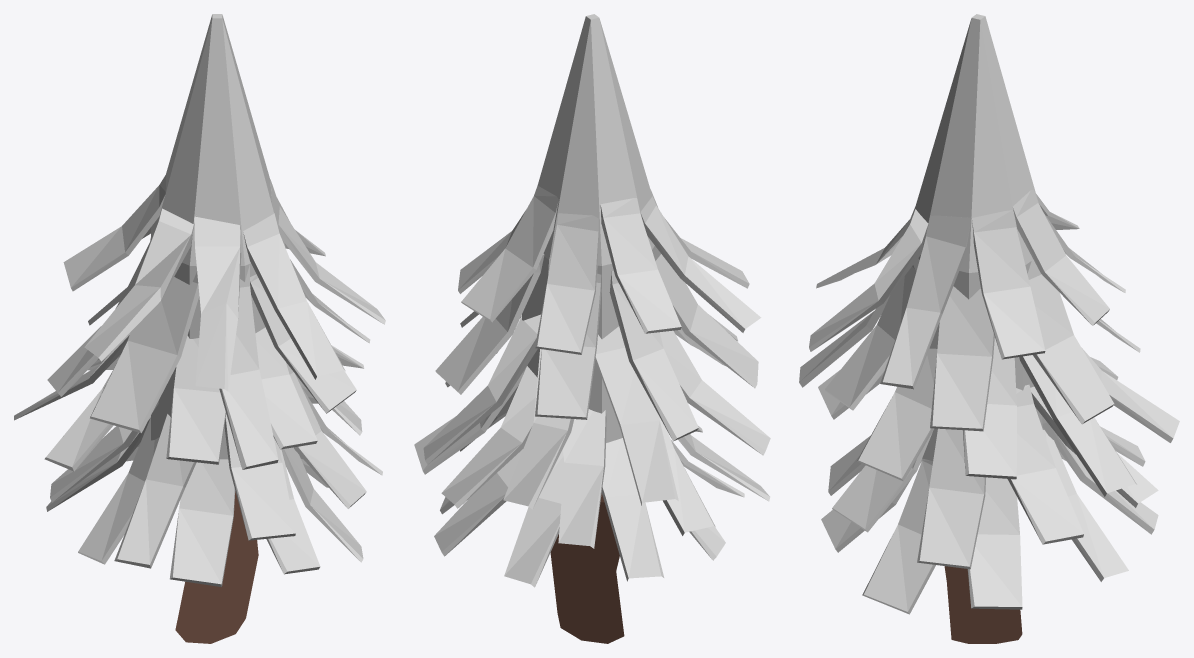
Rendered from Snow Tree.glb.
3 renders of one model, left to right at view 1: azimuth 30°, elevation 25°; view 2: azimuth 150°, elevation 25°; view 3: azimuth 270°, elevation 25°, orthographic. The views are drawn at different scales.
Visible parts, largest first — view 1: Node; view 2: Node; view 3: Node.
Boxes of the visible parts, x1,y1,x2,y2 form: Node: (14, 14, 385, 643); Node: (414, 14, 770, 643); Node: (799, 14, 1179, 643).
Bounding box in the file's own units: 0.515 × 0.9484 × 0.5203.
